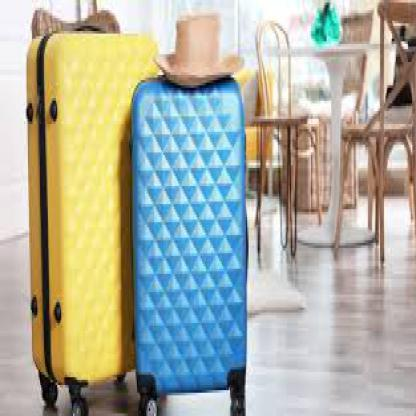maleta: (14, 31, 168, 413), (126, 52, 254, 413)
